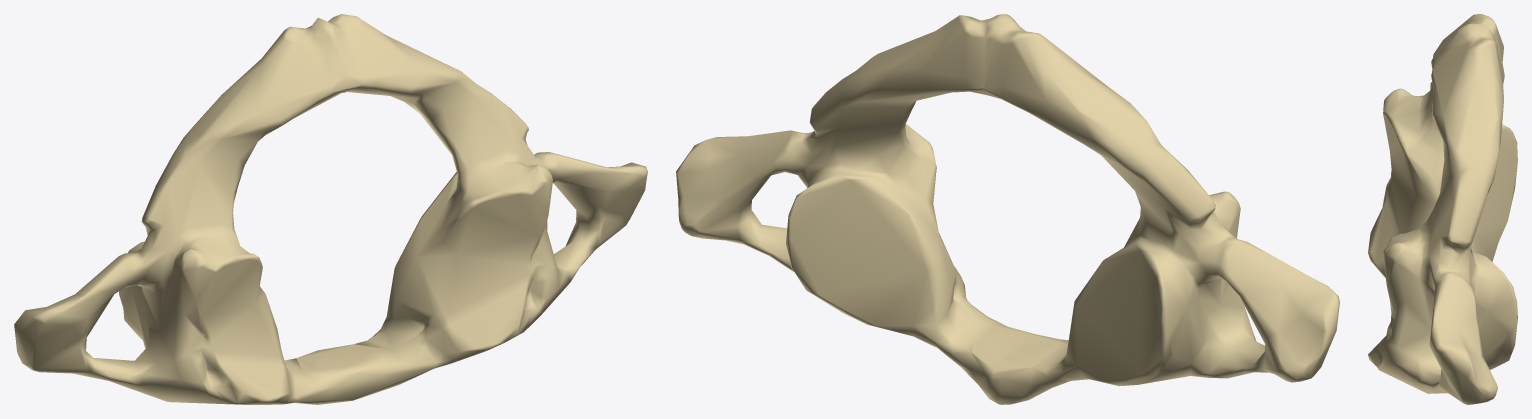
3 views of the same model, side by side, from view 1: azimuth 30°, elevation 25°; view 2: azimuth 150°, elevation 25°; view 3: azimuth 270°, elevation 25° (orthographic). The views are drawn at different scales.
Visible parts, largest first — view 1: 寰椎; view 2: 寰椎; view 3: 寰椎.
Part boxes in pixels (box(x1,y1,x2,y2)): 寰椎: box(14, 14, 647, 404); 寰椎: box(676, 14, 1339, 404); 寰椎: box(1368, 14, 1517, 404).
Bounding box in the file's own units: 0.1268 × 0.0723 × 0.0289.
